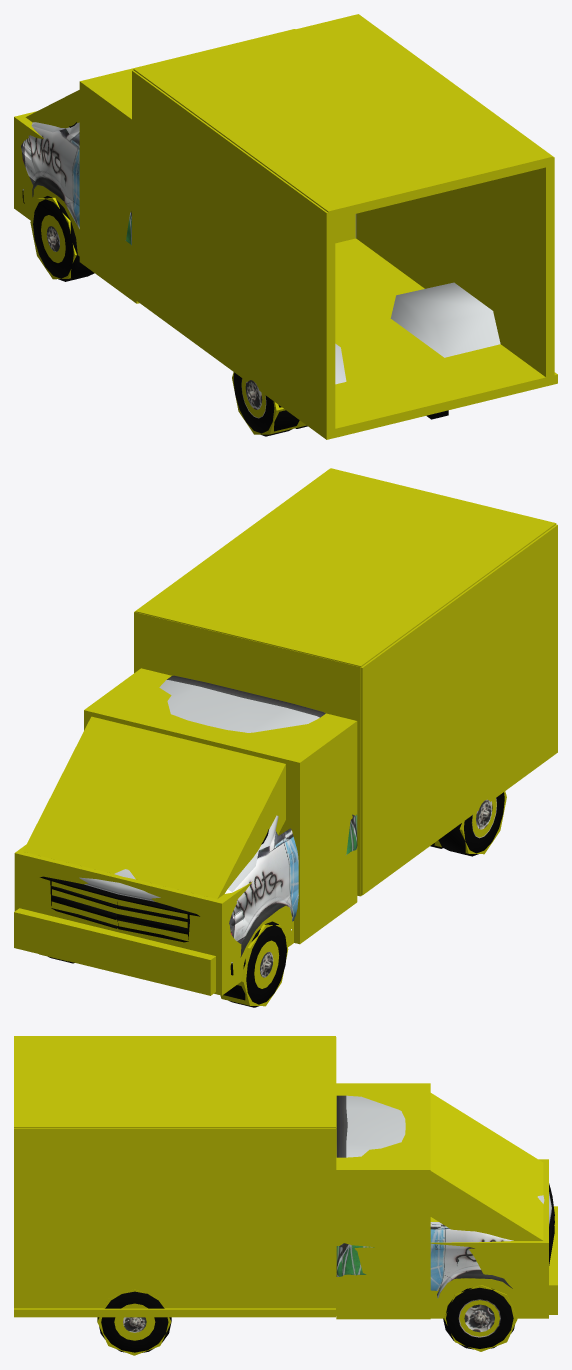
Rendered from archivetruck.dae.
3 renders of one model, top to bottom at view 1: azimuth 30°, elevation 25°; view 2: azimuth 150°, elevation 25°; view 3: azimuth 270°, elevation 25°, orthographic. The views are drawn at different scales.
Parts seen in each view (by area): view 1: Cube_007, Cube_004, Cube_008, Cube_006, Cube_010, Cube_005, truck-cab, Cube_011, Cylinder_000, Cylinder_001, Cube_013, Cylinder_006 (+2 smaller); view 2: Cube_007, Cube_004, Cube_013, Cube_010, Cube_009, truck-cab, Cube_011, Cube_012, truck-cab_001, Cylinder_000, Cylinder_001, Cylinder_006; view 3: Cube_008, Cube_004, Cube_010, Cube_013, truck-cab, Cube_011, Cube_006, Cylinder_000, Cylinder_001, Cylinder_004, Cylinder_005, Cylinder_003 (+1 smaller).
Part boxes in pixels (left/top/right/bottom): Cube_007: left=132, top=70, right=335, bottom=439; Cube_004: left=133, top=14, right=553, bottom=220; Cube_008: left=356, top=157, right=554, bottom=385; Cube_006: left=333, top=238, right=557, bottom=438; Cube_010: left=79, top=29, right=295, bottom=303; Cube_005: left=335, top=214, right=500, bottom=384; truck-cab: left=21, top=122, right=131, bottom=245; Cube_011: left=14, top=111, right=79, bottom=256; Cylinder_000: left=33, top=196, right=94, bottom=281; Cylinder_001: left=233, top=372, right=307, bottom=436; Cube_013: left=25, top=90, right=79, bottom=128; Cylinder_006: left=30, top=197, right=76, bottom=279; Cube_007: left=361, top=524, right=557, bottom=895; Cube_004: left=135, top=468, right=556, bottom=666; Cube_013: left=23, top=716, right=285, bottom=899; Cube_010: left=84, top=668, right=357, bottom=944; Cube_009: left=135, top=612, right=365, bottom=896; truck-cab: left=79, top=675, right=357, bottom=963; Cube_011: left=14, top=844, right=293, bottom=995; Cube_012: left=14, top=908, right=215, bottom=995; truck-cab_001: left=40, top=876, right=233, bottom=975; Cylinder_000: left=48, top=921, right=286, bottom=1007; Cylinder_001: left=430, top=792, right=504, bottom=856; Cylinder_006: left=220, top=924, right=288, bottom=1006; Cube_008: left=14, top=1128, right=335, bottom=1308; Cube_004: left=14, top=1036, right=335, bottom=1127; Cube_010: left=336, top=1083, right=430, bottom=1319; Cube_013: left=430, top=1093, right=543, bottom=1240; truck-cab: left=336, top=1095, right=551, bottom=1298; Cube_011: left=430, top=1159, right=548, bottom=1318; Cube_006: left=14, top=1308, right=335, bottom=1317; Cylinder_000: left=443, top=1287, right=514, bottom=1349; Cylinder_001: left=98, top=1291, right=171, bottom=1352; Cylinder_004: left=97, top=1289, right=171, bottom=1355; Cylinder_005: left=444, top=1285, right=517, bottom=1351; Cylinder_003: left=458, top=1299, right=500, bottom=1337.
Size of the model in its own units: 2.7 by 6.56 by 3.04.
Materials: 6 (1 with a texture image).
